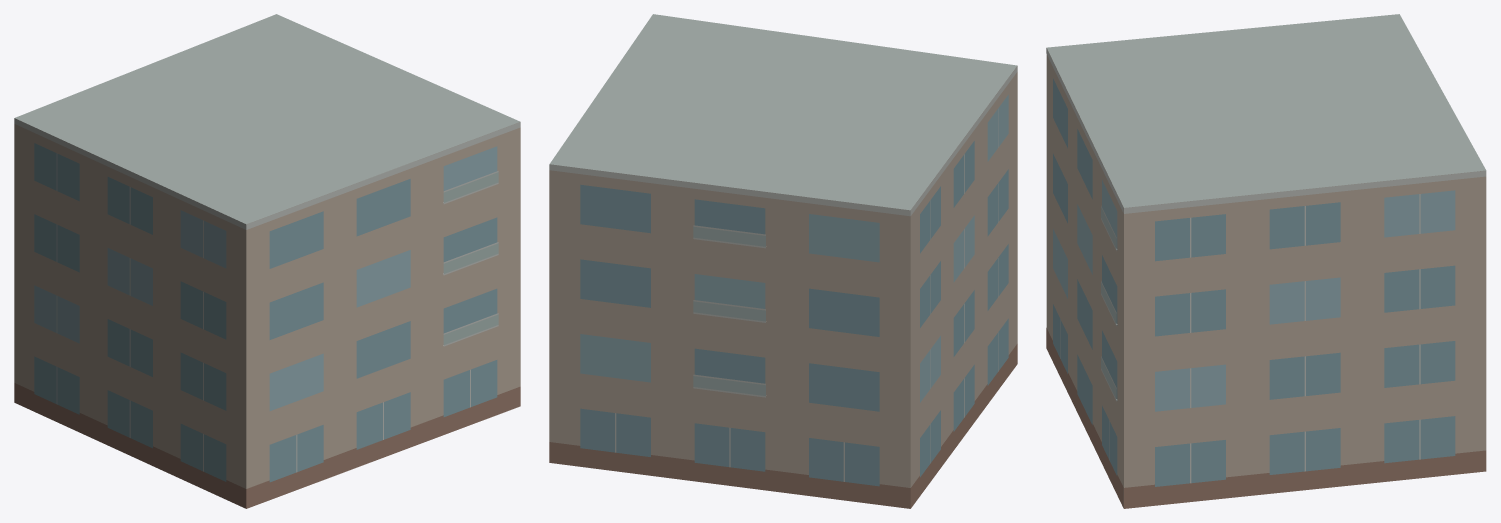
File: survey-upis-32811719.glb
3 views of the same model, side by side, from view 1: azimuth 30°, elevation 25°; view 2: azimuth 150°, elevation 25°; view 3: azimuth 270°, elevation 25° (orthographic). The views are drawn at different scales.
Parts seen in each view (by area): view 1: survey-upis-32811719.tmp; view 2: survey-upis-32811719.tmp; view 3: survey-upis-32811719.tmp.
Part boxes in pixels (box(x1,y1,x2,y2)): survey-upis-32811719.tmp: box(14, 14, 520, 508); survey-upis-32811719.tmp: box(549, 14, 1017, 508); survey-upis-32811719.tmp: box(1046, 14, 1486, 508).
Size of the model in its own units: 16.87 by 12.2 by 16.17.
